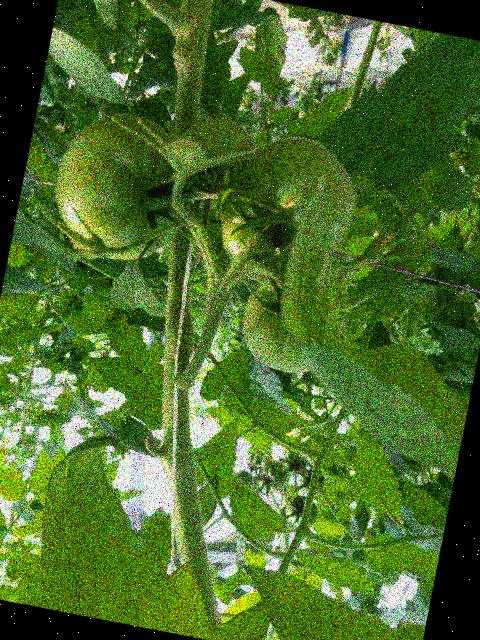b_green: (43, 102, 201, 272), (212, 125, 367, 297), (234, 261, 329, 377), (165, 109, 262, 217)
